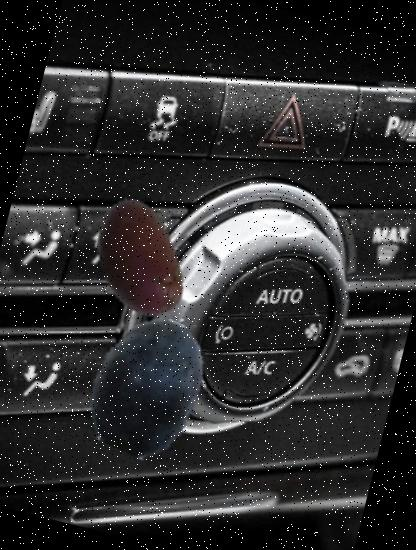Blueberry: (63, 300, 233, 470)
Potato: (64, 184, 214, 334)
